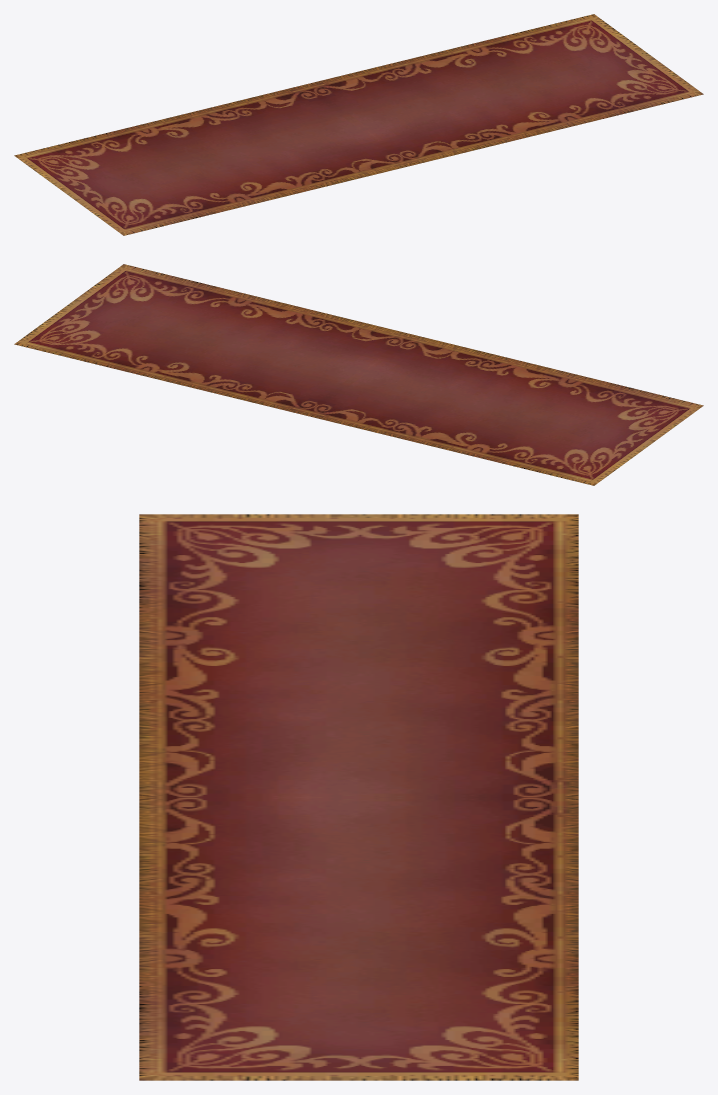
File: environment_common_ditan_001_d.FBX
3 views of the same model, one above another, from view 1: azimuth 30°, elevation 25°; view 2: azimuth 150°, elevation 25°; view 3: azimuth 270°, elevation 25° (orthographic). The views are drawn at different scales.
Visible parts, largest first — view 1: environment_common_ditan_001_d; view 2: environment_common_ditan_001_d; view 3: environment_common_ditan_001_d.
Part boxes in pixels (x1=…): environment_common_ditan_001_d: x1=14, y1=14, x2=703, y2=235; environment_common_ditan_001_d: x1=14, y1=264, x2=703, y2=485; environment_common_ditan_001_d: x1=139, y1=514, x2=578, y2=1080.
Bounding box in the file's own units: 2955 × 2.74e-13 × 969.
